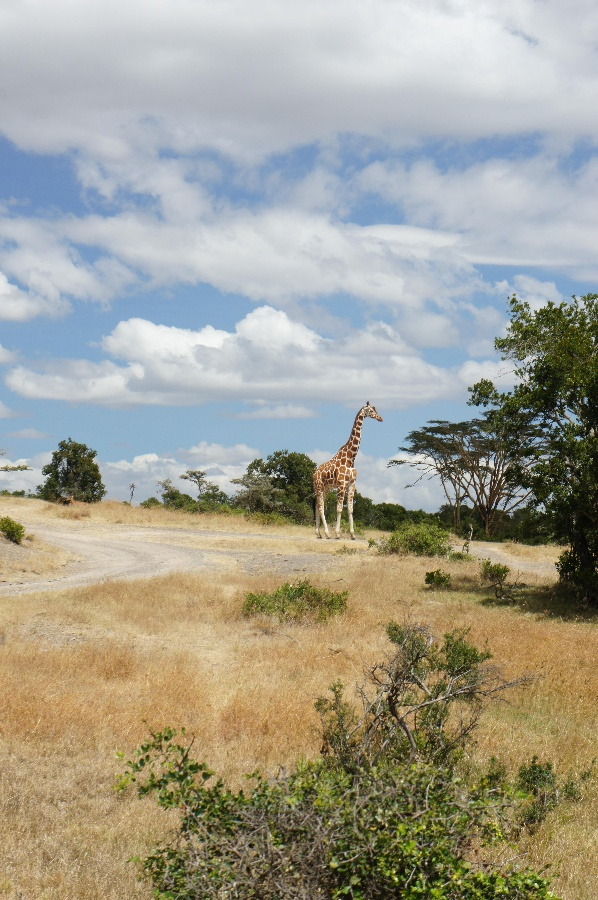giraffe: (303, 389, 386, 547)
